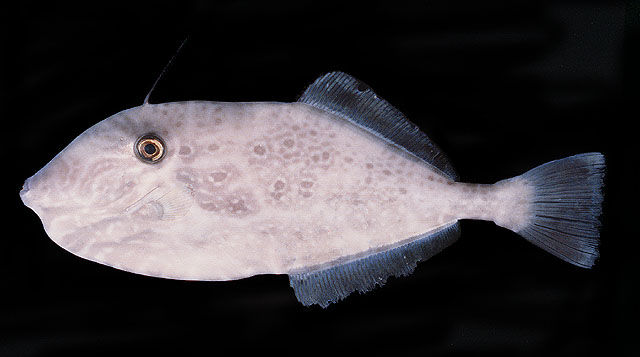fish: (23, 73, 604, 307)
